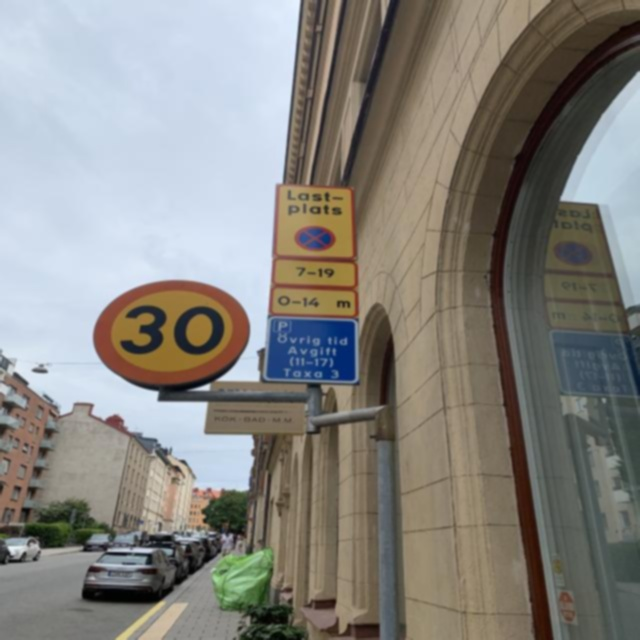lastplats: (270, 182, 358, 263)
